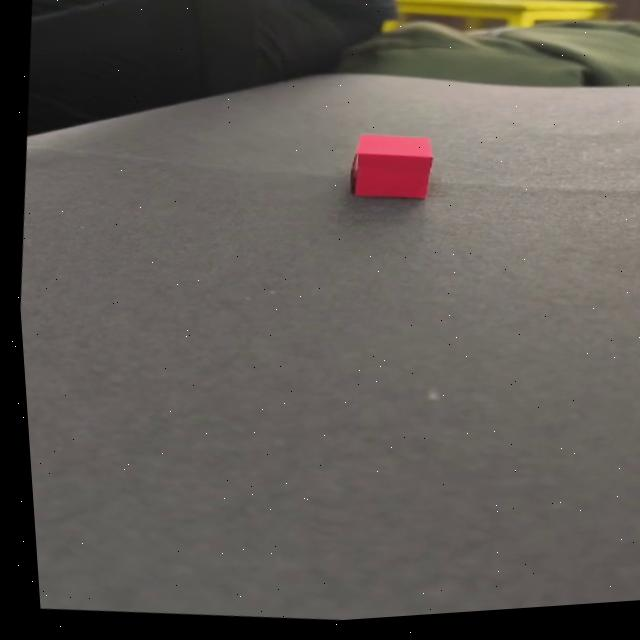red block: (344, 127, 438, 205)
